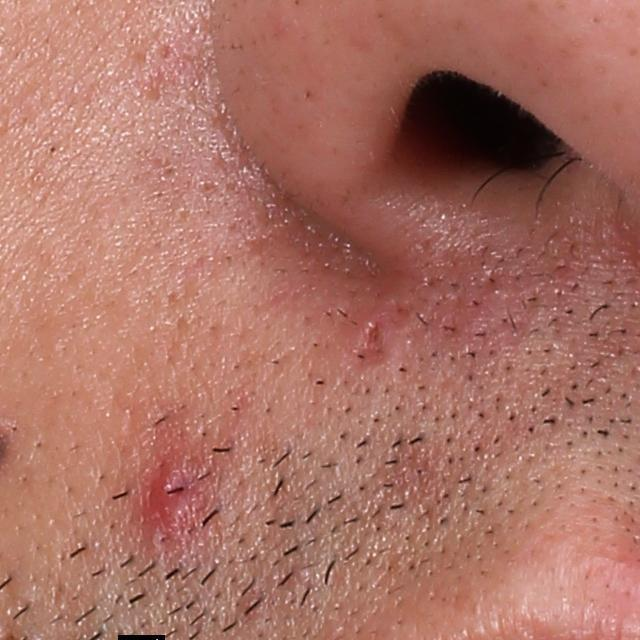atrophic_scar: (350, 311, 399, 370)
papule: (141, 437, 210, 536)
